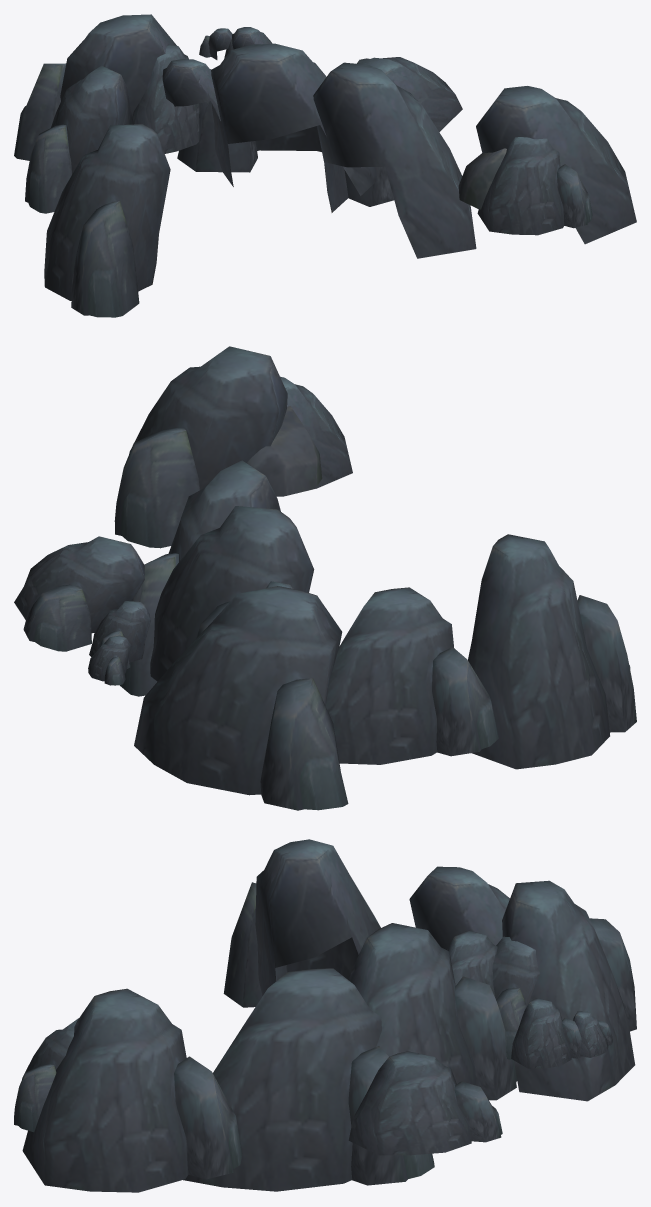
The model's file is Area_07_14.fbx.
3 views of the same model, one above another, from view 1: azimuth 30°, elevation 25°; view 2: azimuth 150°, elevation 25°; view 3: azimuth 270°, elevation 25° (orthographic). The views are drawn at different scales.
Parts seen in each view (by area): view 1: Area_07_14; view 2: Area_07_14; view 3: Area_07_14.
Boxes of the visible parts, bbox=[...] form: Area_07_14: bbox=[14, 14, 636, 317]; Area_07_14: bbox=[14, 346, 636, 810]; Area_07_14: bbox=[14, 839, 636, 1192].
Bounding box in the file's own units: 4803 × 1618 × 4740.
